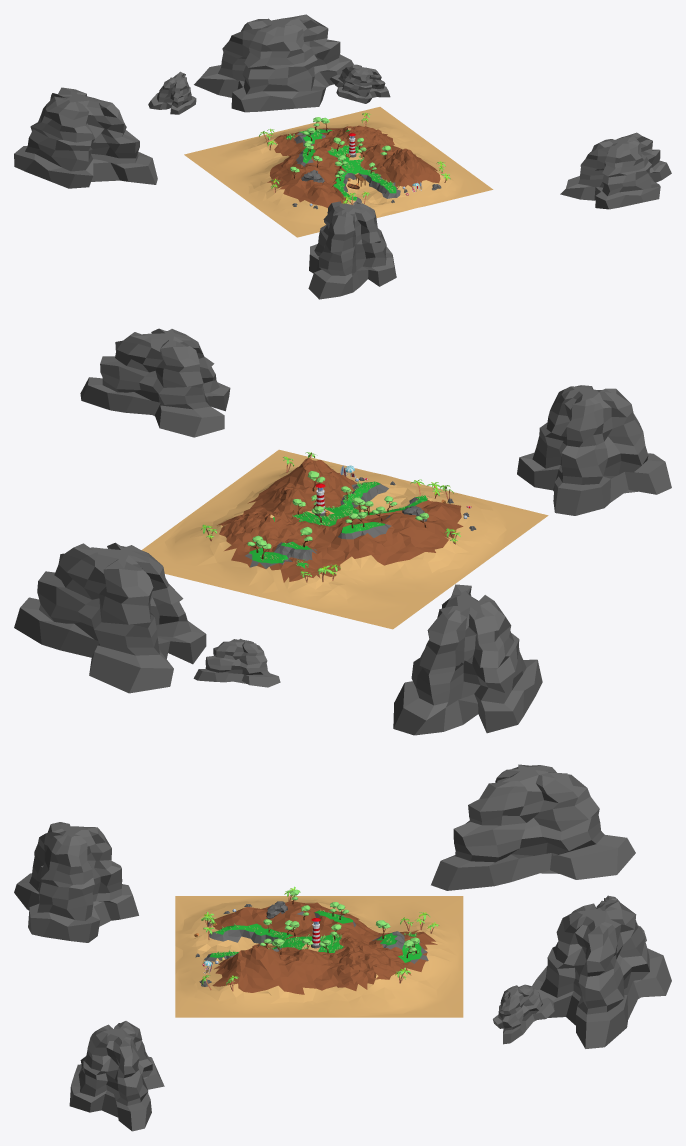
File: island.fbx
The picture shows the model from 3 angles, top to bottom: view 1: azimuth 30°, elevation 25°; view 2: azimuth 150°, elevation 25°; view 3: azimuth 270°, elevation 25°; orthographic projection. The views are drawn at different scales.
Visible parts, largest first — view 1: Landscape, Plane.003, Plane.004, Plane.002, Plane.005, Plane.006, Plane.007; view 2: Landscape, Plane.003, Plane.004, Plane.002, Plane.005, Plane.007; view 3: Landscape, Plane.004, Plane.003, Plane.002, Plane.005, Plane.006.
Part boxes in pixels (x1=…): Landscape: x1=184, y1=107, x2=493, y2=237; Plane.003: x1=194, y1=14, x2=353, y2=112; Plane.004: x1=14, y1=87, x2=157, y2=188; Plane.002: x1=308, y1=201, x2=396, y2=299; Plane.005: x1=560, y1=132, x2=671, y2=209; Plane.006: x1=330, y1=64, x2=390, y2=103; Plane.007: x1=148, y1=71, x2=196, y2=114; Landscape: x1=142, y1=449, x2=548, y2=629; Plane.003: x1=14, y1=542, x2=206, y2=693; Plane.004: x1=393, y1=584, x2=542, y2=735; Plane.002: x1=517, y1=385, x2=671, y2=515; Plane.005: x1=80, y1=328, x2=230, y2=437; Plane.007: x1=193, y1=638, x2=280, y2=687; Landscape: x1=175, y1=896, x2=463, y2=1017; Plane.004: x1=431, y1=764, x2=635, y2=890; Plane.003: x1=532, y1=901, x2=671, y2=1048; Plane.002: x1=14, y1=822, x2=138, y2=942; Plane.005: x1=69, y1=1021, x2=164, y2=1131; Plane.006: x1=493, y1=984, x2=554, y2=1044.
Bounding box in the file's own units: 1242 × 175 × 1142.
